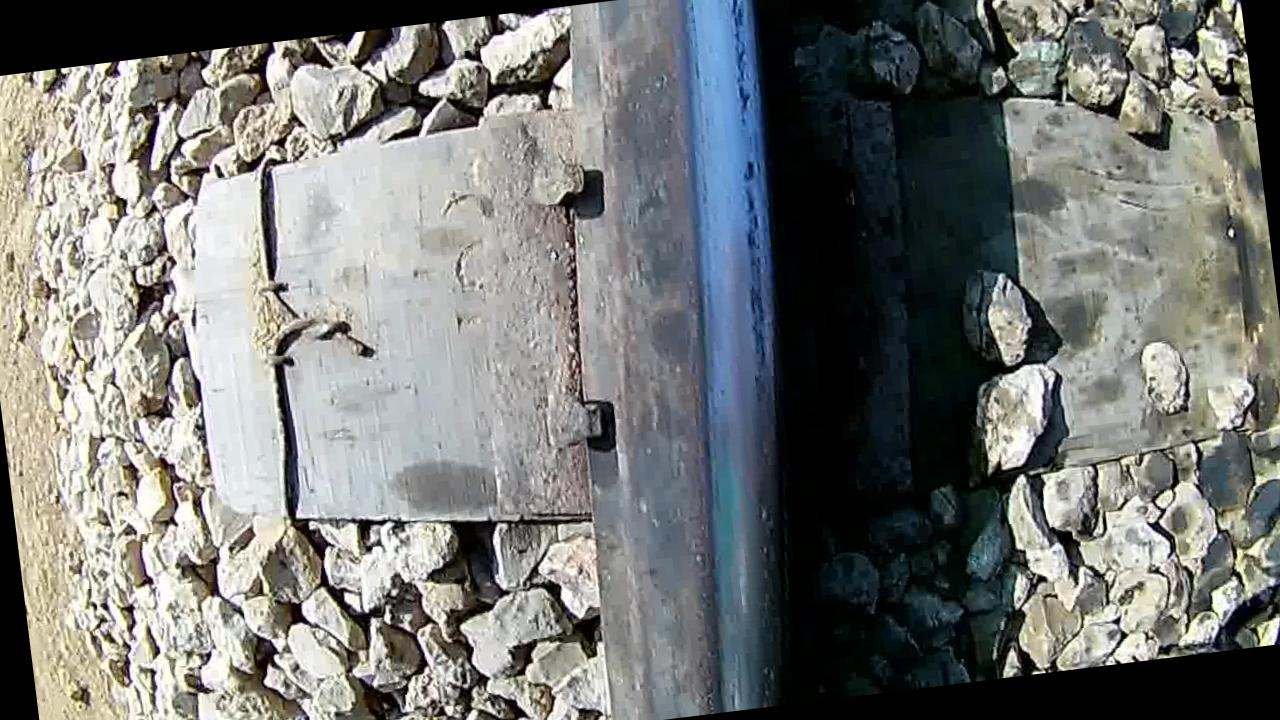crack: (567, 0, 841, 720)
